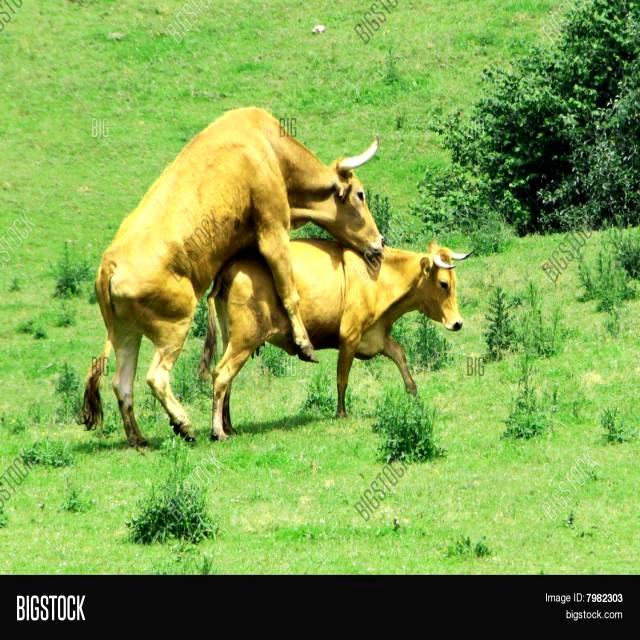COW: (81, 108, 382, 447), (291, 241, 464, 417), (202, 254, 295, 438)
